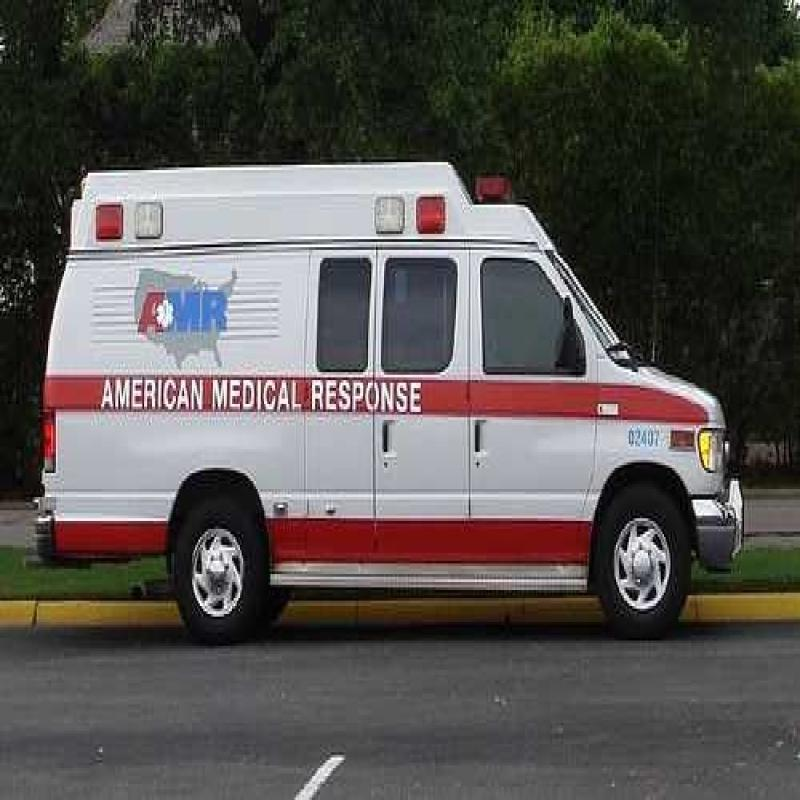ambulance: (46, 151, 715, 636)
